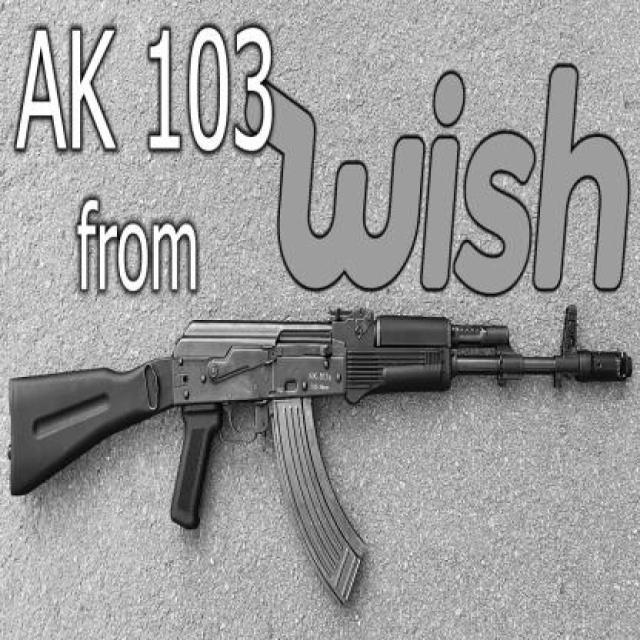weapon: (8, 302, 634, 609)
